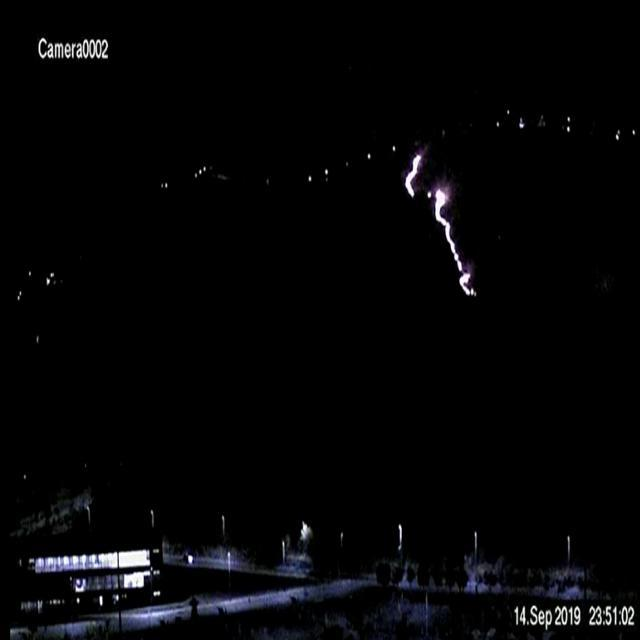Fire: (428, 186, 477, 302), (400, 152, 422, 200)
